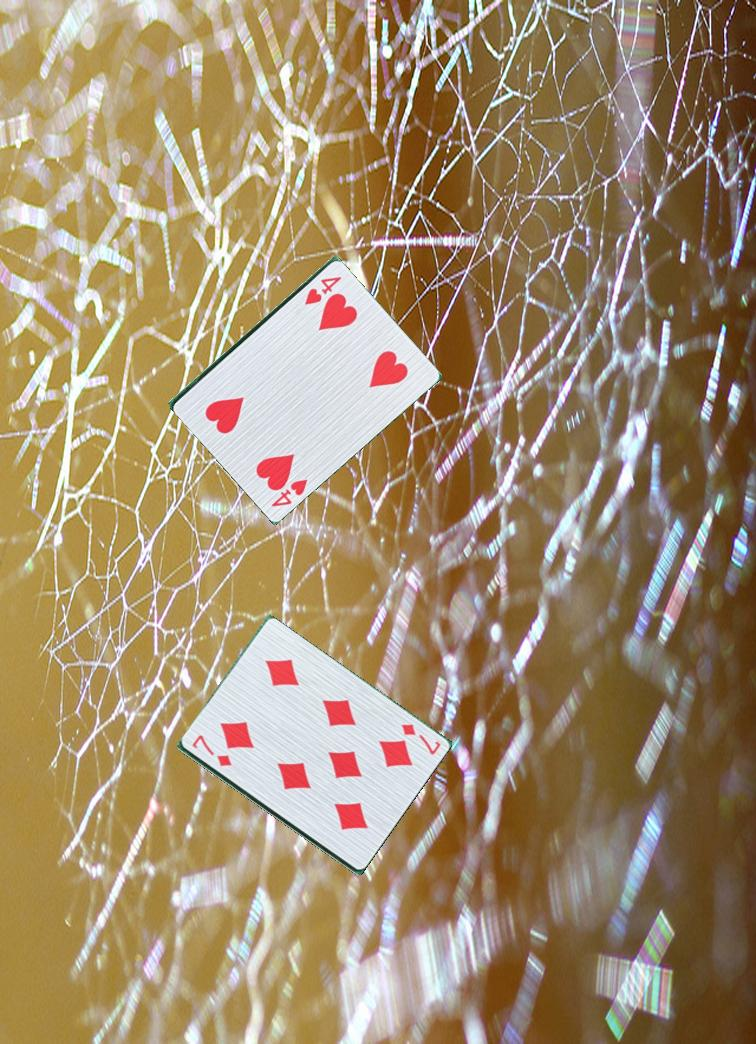4h: (261, 466, 314, 509), (300, 272, 345, 308)
7d: (391, 718, 448, 758), (188, 732, 235, 771)
